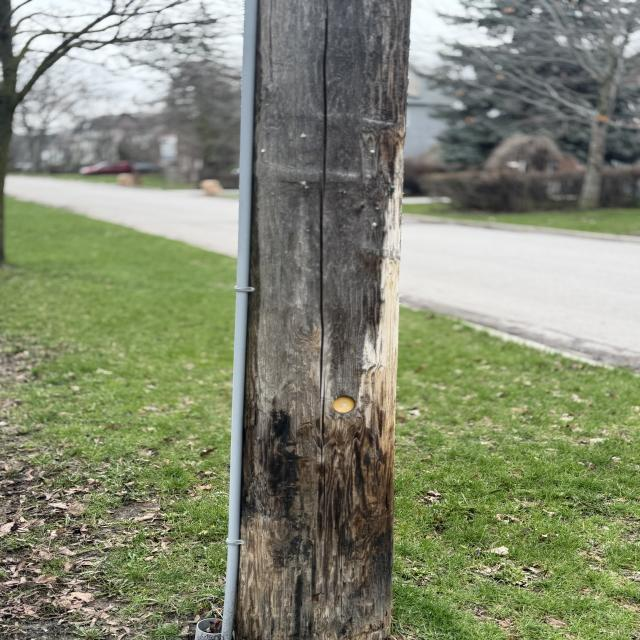Electrical Pole: (220, 2, 415, 639)
